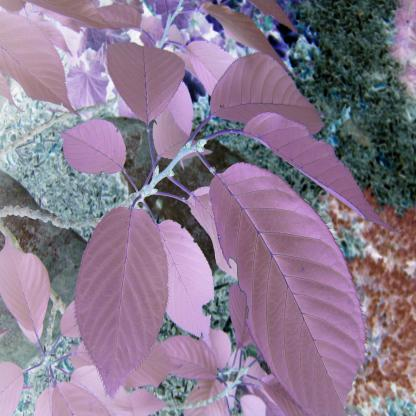Cherry leaf: (205, 154, 379, 416), (70, 201, 177, 398), (246, 109, 395, 245), (204, 50, 337, 142), (0, 13, 89, 122), (97, 33, 194, 133), (0, 229, 50, 344), (50, 115, 129, 182)
